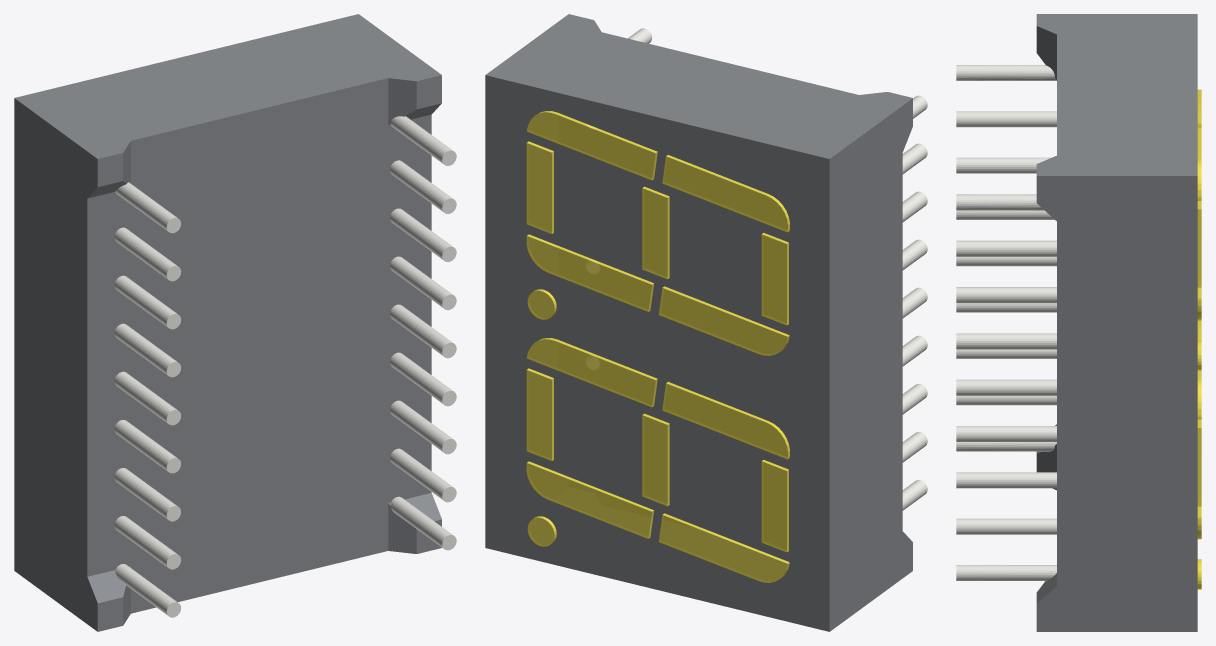
File: DA56-11SYKWA.glb
3 views of the same model, side by side, from view 1: azimuth 30°, elevation 25°; view 2: azimuth 150°, elevation 25°; view 3: azimuth 270°, elevation 25° (orthographic). The views are drawn at different scales.
Parts seen in each view (by area): view 1: Shape_IndexedFaceSet.010, Shape_IndexedFaceSet.023, Shape_IndexedFaceSet.007, Shape_IndexedFaceSet.027, Shape_IndexedFaceSet.008, Shape_IndexedFaceSet.028, Shape_IndexedFaceSet.004, Shape_IndexedFaceSet.016, Shape_IndexedFaceSet.124, Shape_IndexedFaceSet.015, Shape_IndexedFaceSet.017, Shape_IndexedFaceSet.119 (+19 smaller); view 2: Shape_IndexedFaceSet.024, Shape_IndexedFaceSet.023, Shape_IndexedFaceSet.007, Shape_IndexedFaceSet.131, Shape_IndexedFaceSet.139, Shape_IndexedFaceSet.129, Shape_IndexedFaceSet.136, Shape_IndexedFaceSet.127, Shape_IndexedFaceSet.134, Shape_IndexedFaceSet.141, Shape_IndexedFaceSet.132, Shape_IndexedFaceSet.130 (+7 smaller); view 3: Shape_IndexedFaceSet.009, Shape_IndexedFaceSet.007, Shape_IndexedFaceSet.014, Shape_IndexedFaceSet.016, Shape_IndexedFaceSet.017, Shape_IndexedFaceSet.018, Shape_IndexedFaceSet.019, Shape_IndexedFaceSet.020, Shape_IndexedFaceSet.124, Shape_IndexedFaceSet.015, Shape_IndexedFaceSet.012, Shape_IndexedFaceSet.039 (+12 smaller).
Boxes of the visible parts, x1,y1,x2,y2 form: Shape_IndexedFaceSet.010: [131, 125, 388, 565]; Shape_IndexedFaceSet.023: [14, 98, 97, 631]; Shape_IndexedFaceSet.007: [15, 14, 441, 158]; Shape_IndexedFaceSet.027: [87, 192, 130, 576]; Shape_IndexedFaceSet.008: [131, 78, 388, 186]; Shape_IndexedFaceSet.028: [131, 503, 388, 613]; Shape_IndexedFaceSet.004: [388, 114, 431, 503]; Shape_IndexedFaceSet.016: [390, 256, 452, 307]; Shape_IndexedFaceSet.124: [114, 227, 177, 279]; Shape_IndexedFaceSet.015: [390, 352, 453, 403]; Shape_IndexedFaceSet.017: [390, 304, 452, 355]; Shape_IndexedFaceSet.119: [114, 323, 176, 375]; Shape_IndexedFaceSet.024: [485, 75, 829, 631]; Shape_IndexedFaceSet.023: [829, 98, 912, 631]; Shape_IndexedFaceSet.007: [486, 14, 912, 158]; Shape_IndexedFaceSet.131: [662, 156, 787, 232]; Shape_IndexedFaceSet.139: [526, 339, 655, 407]; Shape_IndexedFaceSet.129: [526, 236, 651, 311]; Shape_IndexedFaceSet.136: [662, 383, 787, 459]; Shape_IndexedFaceSet.127: [526, 112, 655, 180]; Shape_IndexedFaceSet.134: [658, 515, 787, 582]; Shape_IndexedFaceSet.141: [526, 463, 651, 538]; Shape_IndexedFaceSet.132: [658, 288, 787, 355]; Shape_IndexedFaceSet.130: [642, 188, 667, 279]; Shape_IndexedFaceSet.009: [1036, 176, 1197, 631]; Shape_IndexedFaceSet.007: [1036, 14, 1197, 175]; Shape_IndexedFaceSet.014: [956, 472, 1056, 488]; Shape_IndexedFaceSet.016: [956, 333, 1056, 349]; Shape_IndexedFaceSet.017: [956, 379, 1056, 395]; Shape_IndexedFaceSet.018: [956, 240, 1056, 256]; Shape_IndexedFaceSet.019: [956, 287, 1056, 303]; Shape_IndexedFaceSet.020: [956, 518, 1056, 534]; Shape_IndexedFaceSet.124: [956, 111, 1056, 127]; Shape_IndexedFaceSet.015: [956, 426, 1056, 441]; Shape_IndexedFaceSet.012: [956, 565, 1056, 580]; Shape_IndexedFaceSet.039: [956, 65, 1056, 80].
Bounding box in the file's own units: 7.5 × 9.84 × 4.8.
